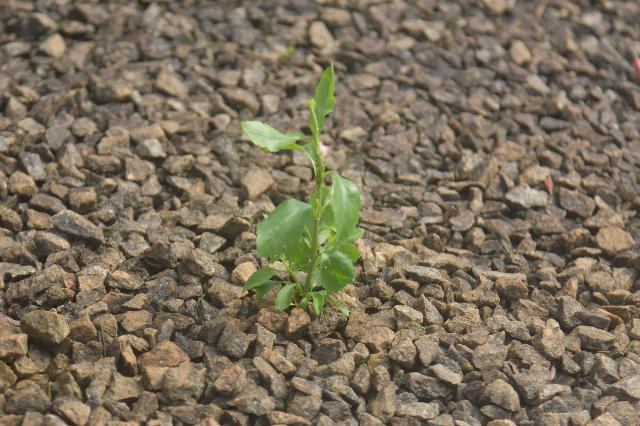MalezaMontesDelPlata: (235, 61, 367, 323)
